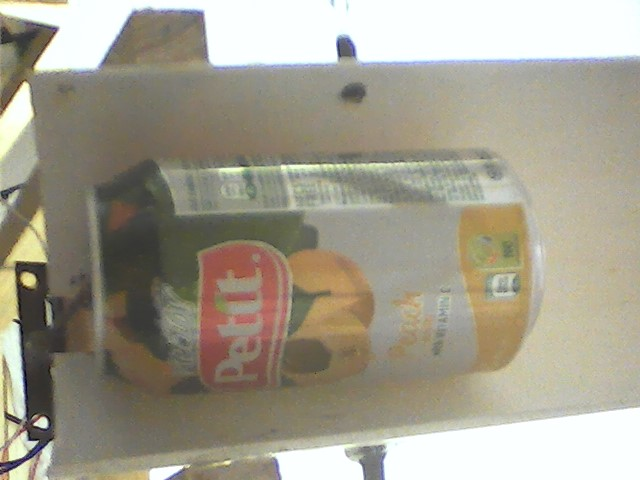lata: (78, 146, 551, 405)
